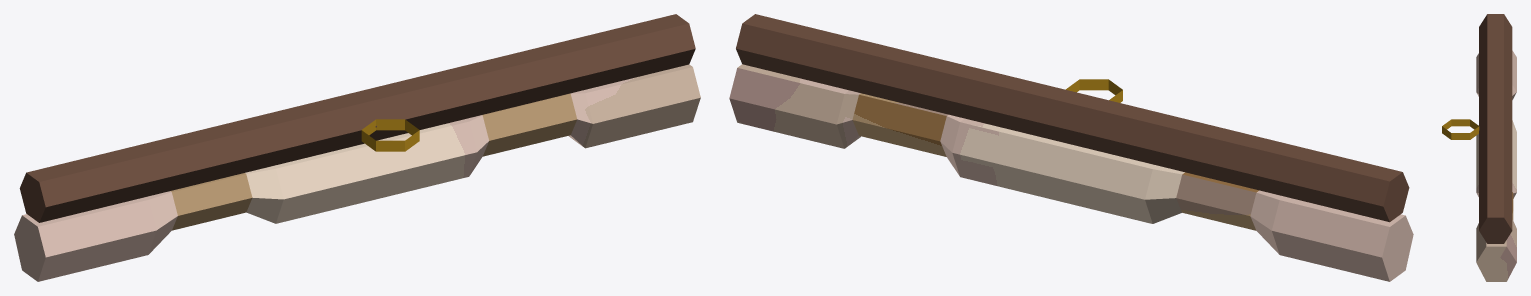
The model's file is ship_sail_closed.gltf.
3 views of the same model, side by side, from view 1: azimuth 30°, elevation 25°; view 2: azimuth 150°, elevation 25°; view 3: azimuth 270°, elevation 25° (orthographic). The views are drawn at different scales.
Parts seen in each view (by area): view 1: ship_sail_closed; view 2: ship_sail_closed; view 3: ship_sail_closed.
Part boxes in pixels (bbox=[...]): ship_sail_closed: bbox=[14, 14, 700, 281]; ship_sail_closed: bbox=[729, 14, 1413, 281]; ship_sail_closed: bbox=[1442, 14, 1516, 281].
Size of the model in its own units: 5.96 by 0.8596 by 0.9195.
1 material, 1 textured.
